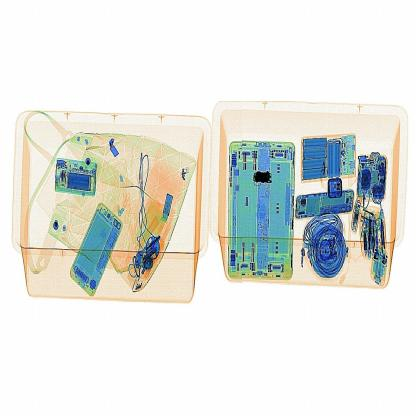scissors: (248, 167, 283, 199)
